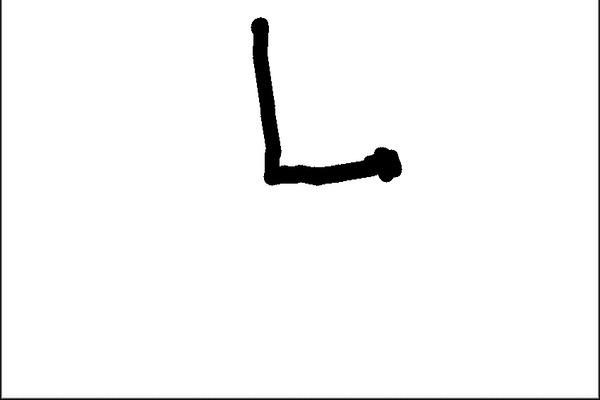L: (244, 8, 407, 190)
